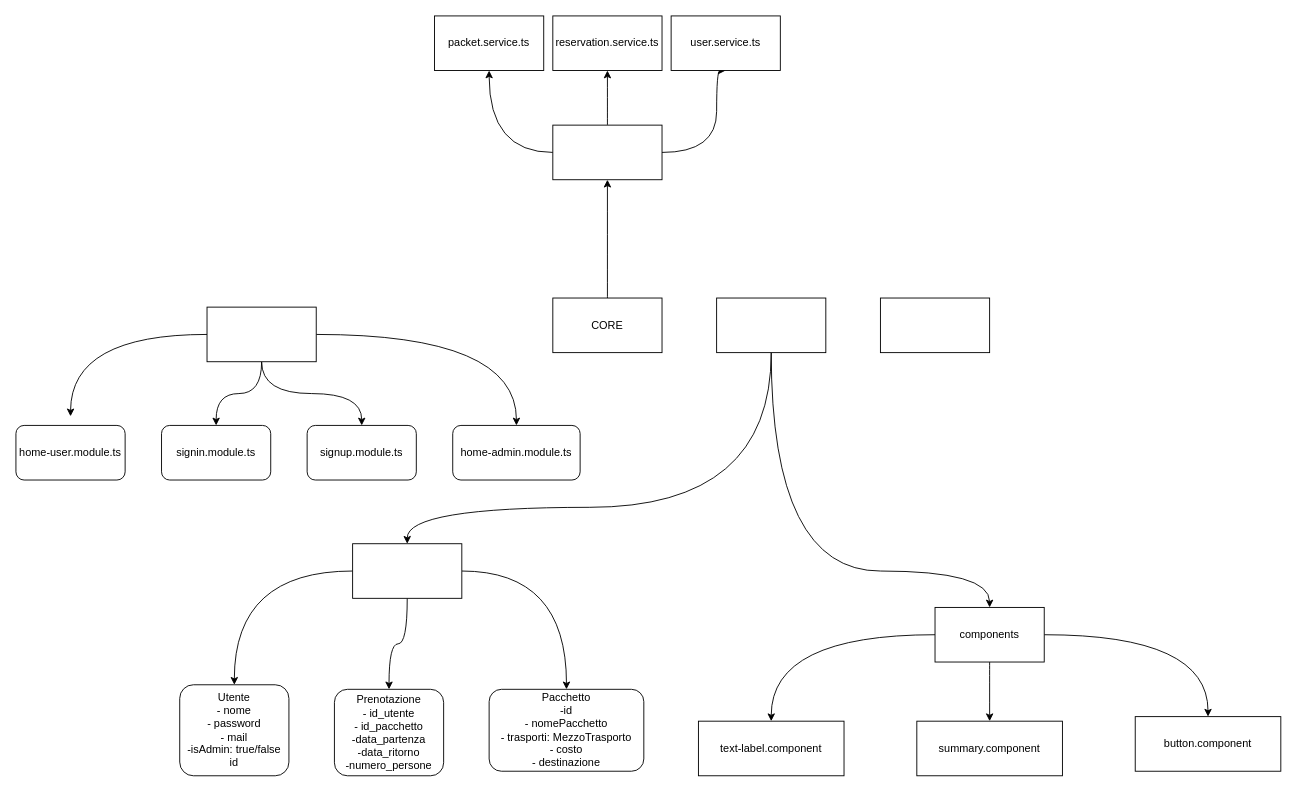
Some shapes in this 1297 by 792 pixel diagram are drawn without their labels. The centre of each missing label's shape, as x and y in pixels:
"/model" goes at pixel 407 570.
"@TEMPLATE" goes at pixel 935 325.
"FEATURES" goes at pixel 261 334.
"SERVICES" goes at pixel 607 152.
"SHARED" goes at pixel 771 325.
